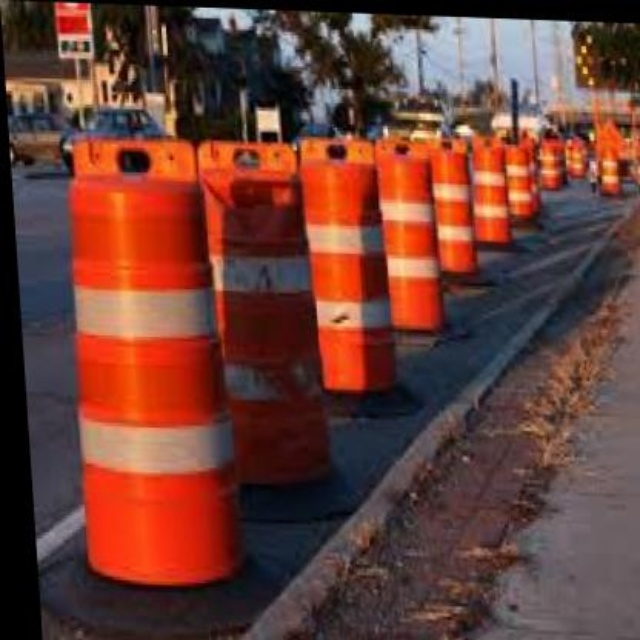obstacle: (51, 137, 244, 590), (212, 121, 336, 495), (291, 127, 394, 395), (378, 126, 449, 338)
